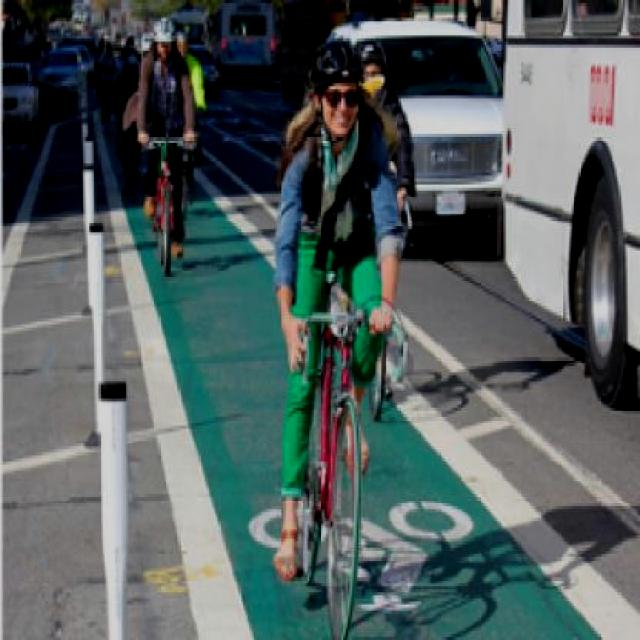With Helmet: (302, 35, 372, 131), (348, 31, 390, 100), (149, 12, 180, 63)
